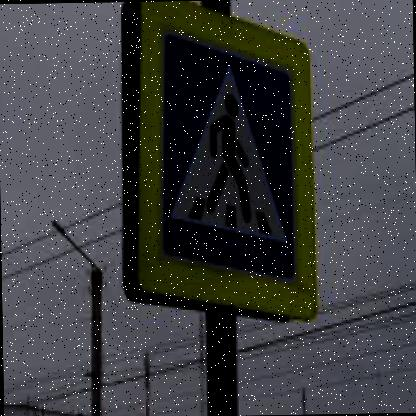crosswalk: (158, 31, 295, 282)
